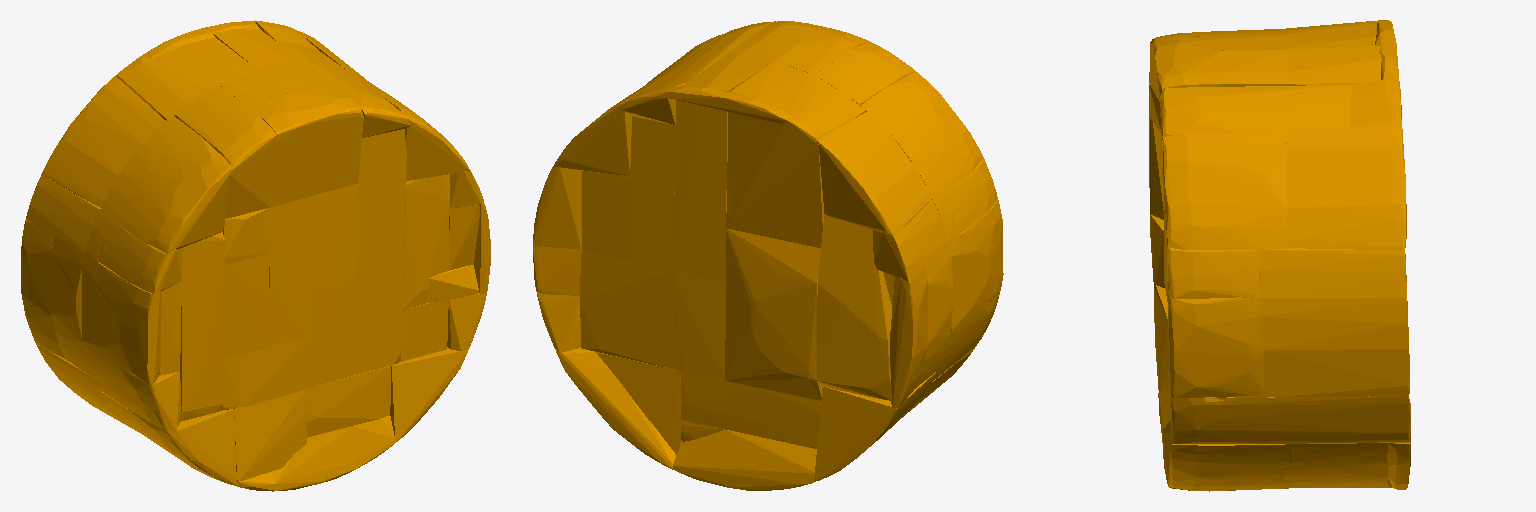
The robot description file, URDF, robot "can-small":
<?xml version="1.0" ?>
<robot name="can-small">
  <link name="baseLink">
    <contact>
      <lateral_friction value="1.0"/>
      <inertia_scaling value="3.0"/>
    </contact>
    <inertial>
      <origin rpy="0 0 0" xyz="0.000 0.000 0.000"/>
       <mass value=".1"/>
       <inertia ixx="1" ixy="0.0" ixz="0.0" iyy="1" iyz="0.0" izz="1"/>
    </inertial>
    <visual>
      <origin rpy="0 0 0" xyz="0 0 0"/>
      <geometry>
        <mesh filename="can/can-small_tuna.obj" scale="1.0 1.0 1.0"/>
      </geometry>
    </visual>
    <collision>
      <origin rpy="0 0 0" xyz="0 0 0"/>
      <geometry>
        <mesh filename="../collision/can/can-small_tuna.obj" scale="1.0 1.0 1.0"/>
      </geometry>
    </collision>
  </link>
</robot>
        

--- Render facts (derived) ---
Views: 3 orthographic renders of the robot side by side, from view 1: azimuth 30°, elevation 25°; view 2: azimuth 150°, elevation 25°; view 3: azimuth 270°, elevation 25°.
Model can-small with 1 links and 0 joints (none), rooted at baseLink, posed all joints at 0.
Links seen in each view (by area): view 1: baseLink; view 2: baseLink; view 3: baseLink.
Boxes of the visible links, x1,y1,x2,y2 form: baseLink: (21,20,490,491); baseLink: (533,21,1003,490); baseLink: (1149,20,1410,491).
Size in the robot's own frame: 0.0861 by 0.0479 by 0.0853 metres.
Meshes: 1 distinct files referenced, 1 mesh visuals loaded (1 OBJ).